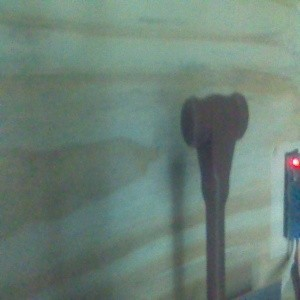palu: (179, 90, 250, 300)
